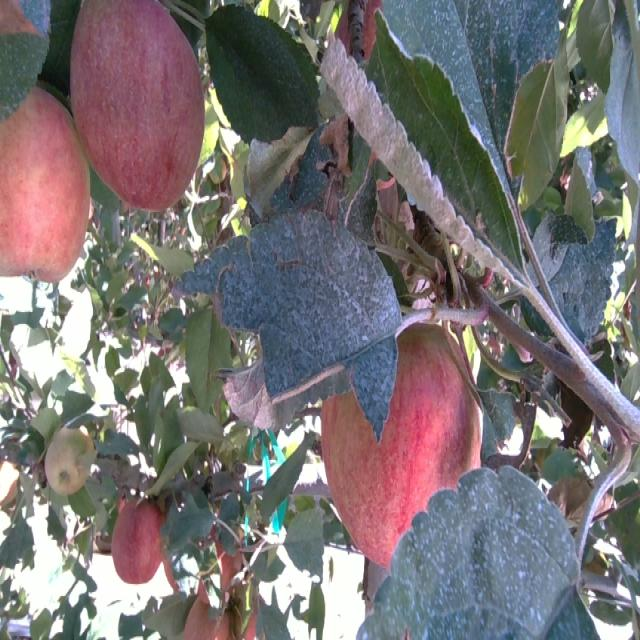100-_ripeness: (325, 326, 483, 576), (68, 0, 206, 208), (0, 77, 92, 288), (110, 493, 173, 582), (46, 418, 94, 492), (183, 593, 227, 640)
